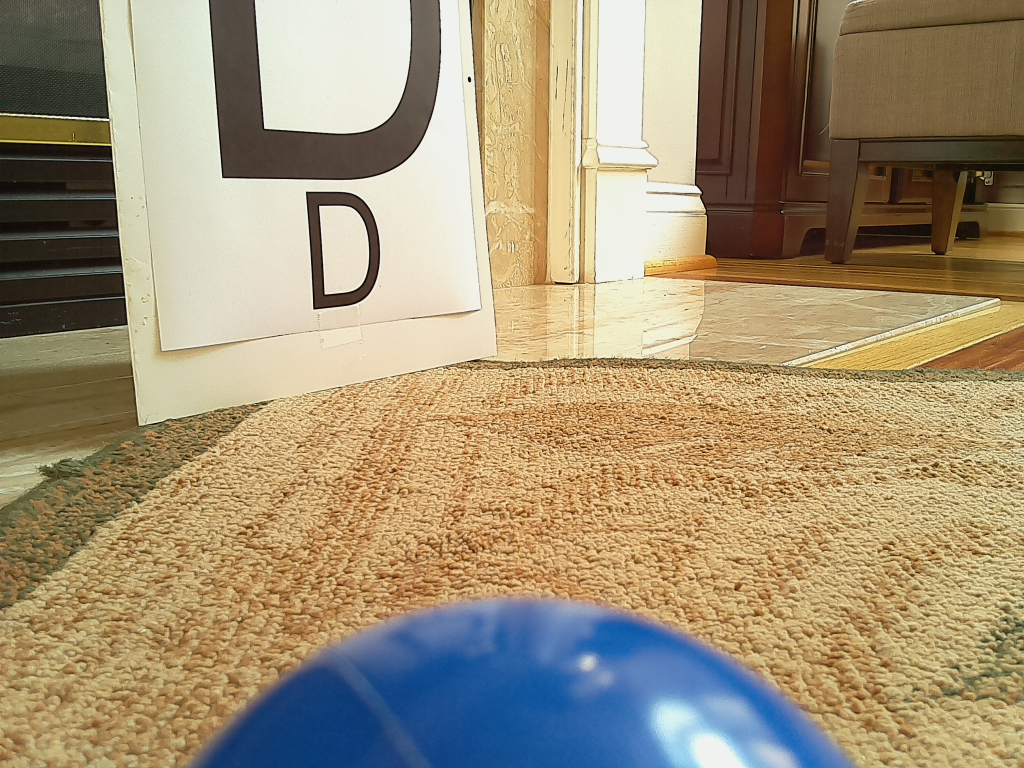letter: (313, 192, 381, 309)
